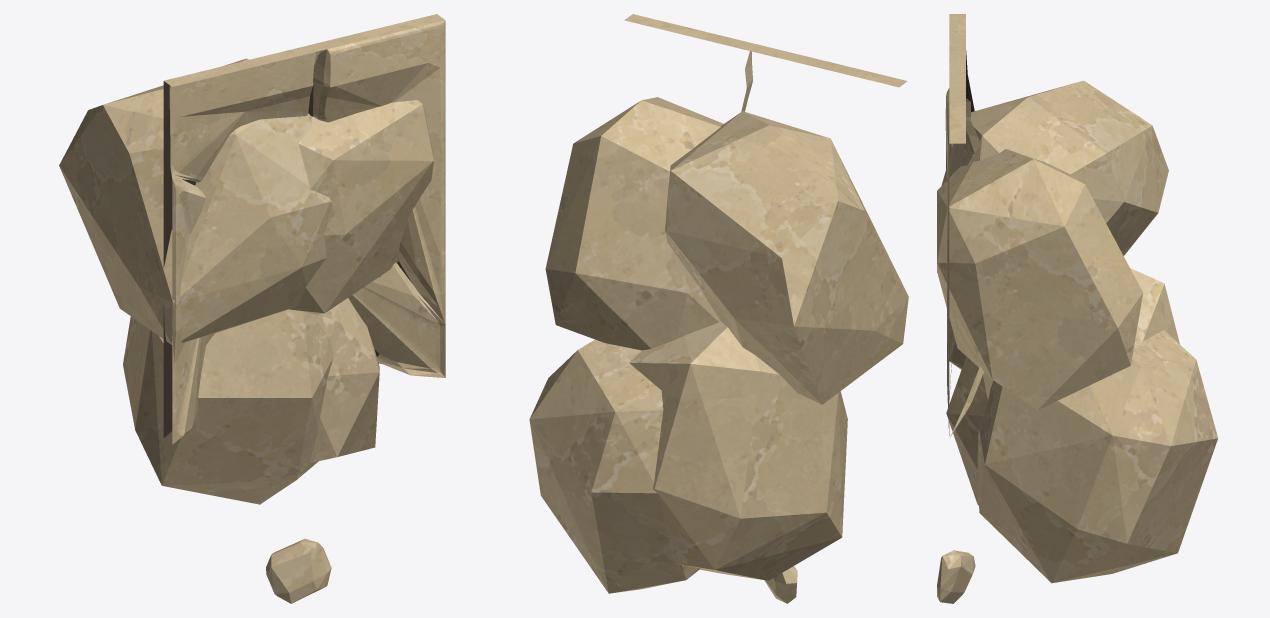
File: ground_bottom_edge_07.glb
3 renders of one model, left to right at view 1: azimuth 30°, elevation 25°; view 2: azimuth 150°, elevation 25°; view 3: azimuth 270°, elevation 25°, orthographic. The views are drawn at different scales.
Parts seen in each view (by area): view 1: GroundBottomEdge07_Body; view 2: GroundBottomEdge07_Body; view 3: GroundBottomEdge07_Body.
Part boxes in pixels (x1=…): GroundBottomEdge07_Body: x1=59, y1=14, x2=445, y2=603; GroundBottomEdge07_Body: x1=529, y1=14, x2=908, y2=603; GroundBottomEdge07_Body: x1=937, y1=14, x2=1218, y2=603.
Bounding box in the file's own units: 1 × 1.9 × 1.04.
6 materials, 5 textured.
